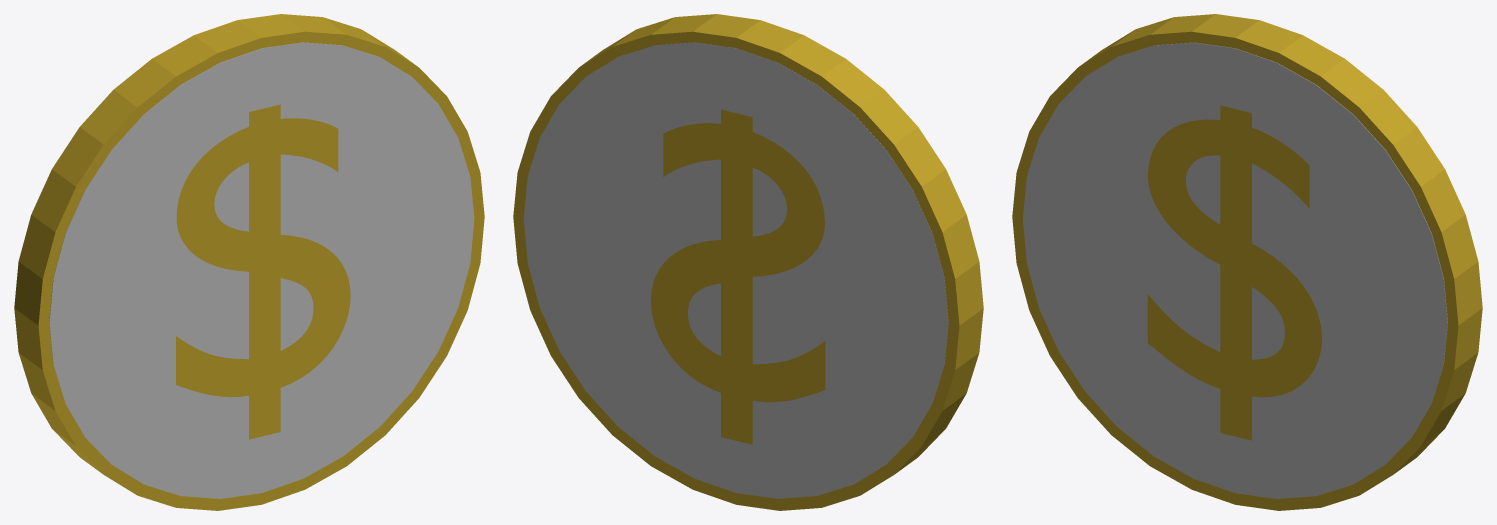
Rendered from Project Name.glb.
3 views of the same model, side by side, from view 1: azimuth 30°, elevation 25°; view 2: azimuth 150°, elevation 25°; view 3: azimuth 330°, elevation 25° (orthographic).
Parts seen in each view (by area): view 1: Texto (×2); view 2: Texto (×2); view 3: Texto (×2).
Part boxes in pixels (x1,y1,x2,y2): Texto (×2): [14, 14, 484, 510]; Texto (×2): [513, 14, 983, 510]; Texto (×2): [1012, 14, 1482, 510].
Size of the model in its own units: 0.2455 by 0.2455 by 0.0249.
